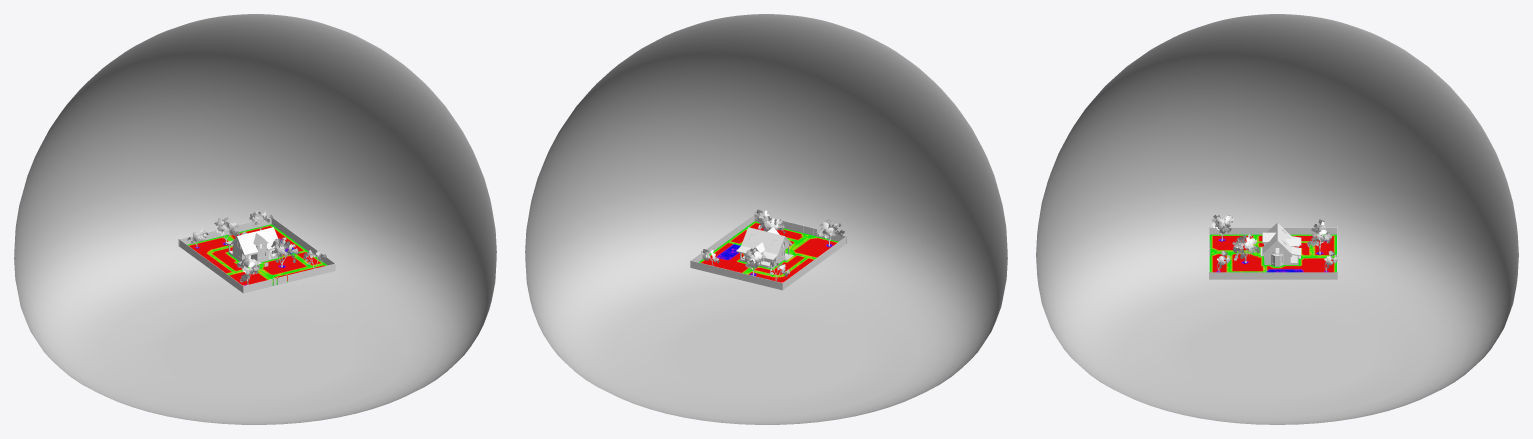
File: firstperson_camera.gltf
3 renders of one model, left to right at view 1: azimuth 30°, elevation 25°; view 2: azimuth 150°, elevation 25°; view 3: azimuth 270°, elevation 25°, orthographic.
Parts seen in each view (by area): view 1: env, grass, fence, roof, tree.006; view 2: env, grass, fence, roof; view 3: env, grass, fence, roof, tree.006.
Part boxes in pixels (x1,y1,x2,y2): env: (14, 14, 496, 424); grass: (187, 224, 327, 285); fence: (179, 217, 335, 293); roof: (225, 227, 278, 255); tree.006: (268, 237, 298, 267); env: (525, 14, 1007, 424); grass: (698, 221, 838, 282); fence: (690, 214, 846, 290); roof: (736, 227, 792, 260); env: (1036, 14, 1518, 424); grass: (1209, 234, 1336, 272); fence: (1209, 227, 1337, 279); roof: (1262, 223, 1301, 256); tree.006: (1232, 234, 1260, 262).
Size of what is drawn, in the model's own units: 182 by 133 by 182.
